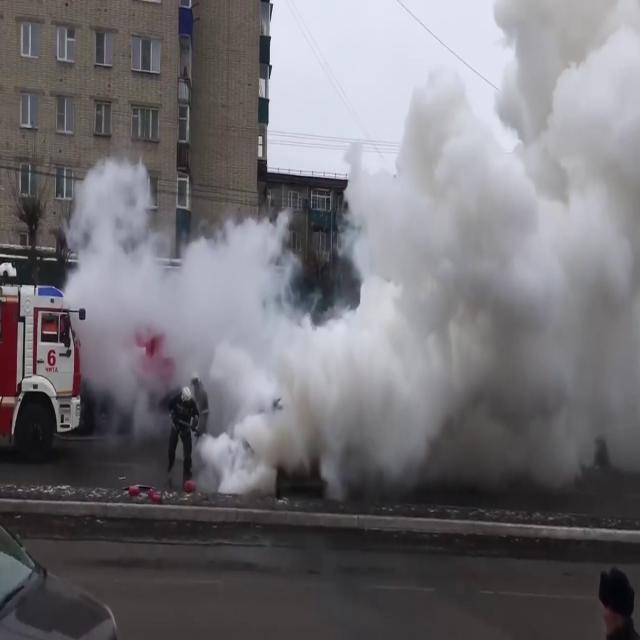Smoke: (61, 46, 640, 509)
